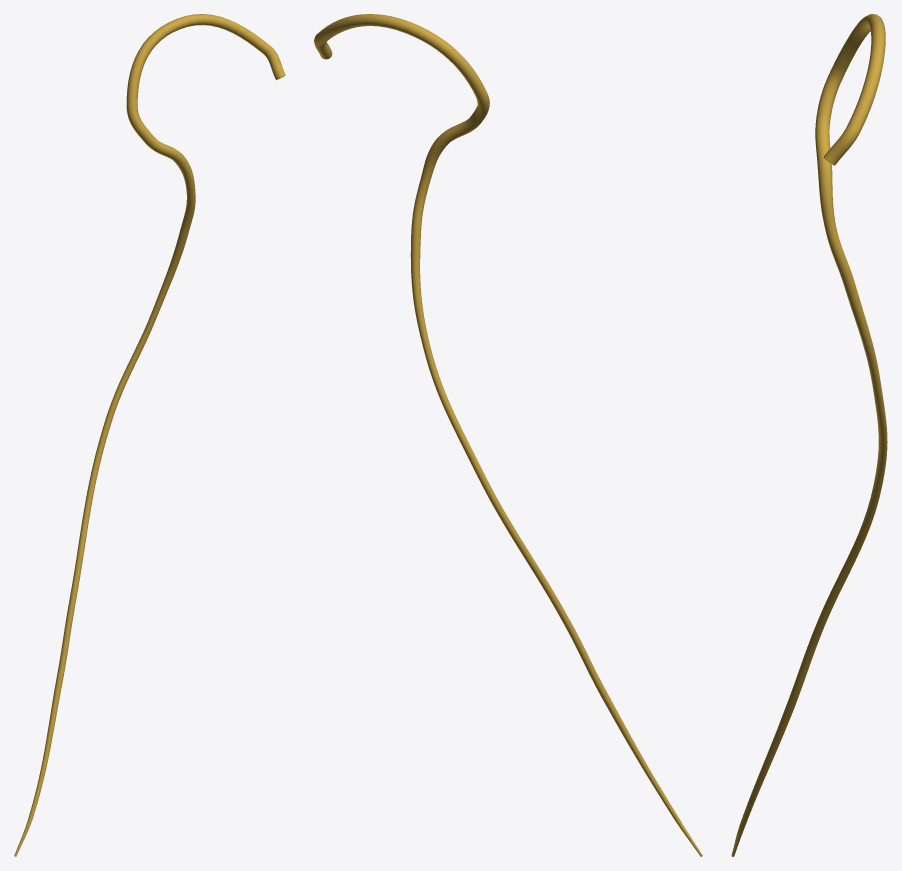
3 views of the same model, side by side, from view 1: azimuth 30°, elevation 25°; view 2: azimuth 150°, elevation 25°; view 3: azimuth 270°, elevation 25° (orthographic). The views are drawn at different scales.
Visible parts, largest first — view 1: 右侧滑车神经; view 2: 右侧滑车神经; view 3: 右侧滑车神经.
Boxes of the visible parts, x1,y1,x2,y2 form: 右侧滑车神经: (14, 14, 285, 856); 右侧滑车神经: (314, 14, 702, 856); 右侧滑车神经: (731, 14, 887, 856).
Bounding box in the file's own units: 0.0471 × 0.1088 × 0.0158.
